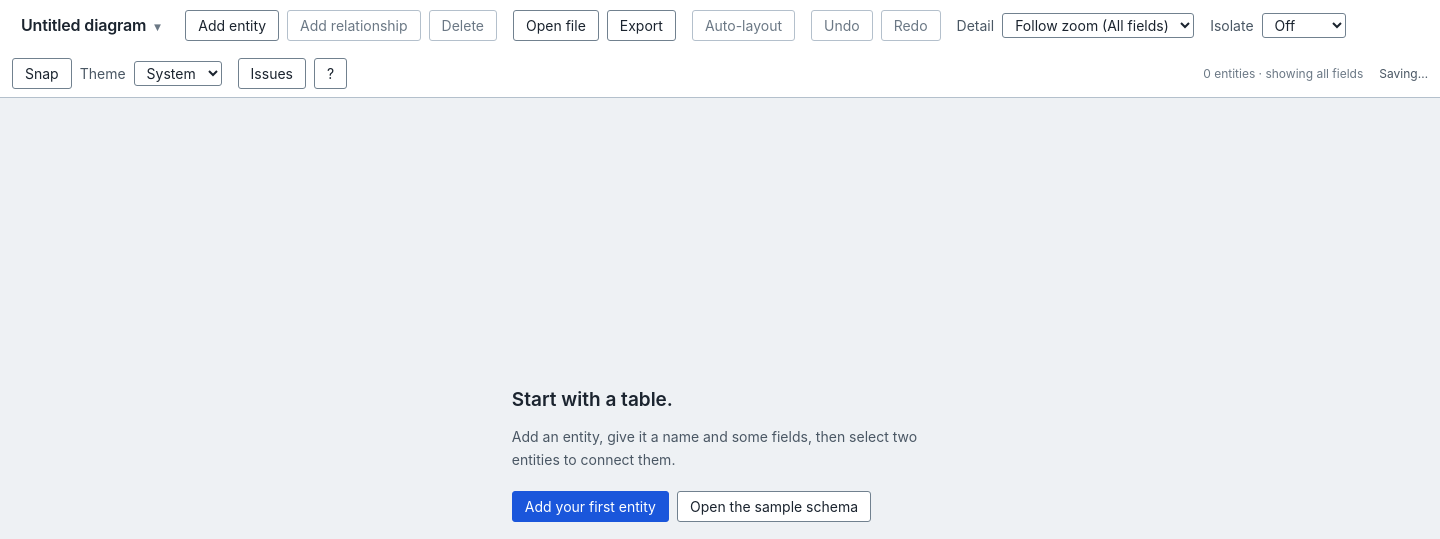
Test case: diagram menu › Escape backs out of a pending deletion before it closes the menu
The width and height of the screenshot is (1440, 539).
Check: the text "Start with a table." is shown, box left=512, top=386, right=673, bottom=414
Click the button "Untitled diagram ▾" at coordinates (91, 25), box left=12, top=8, right=169, bottom=42
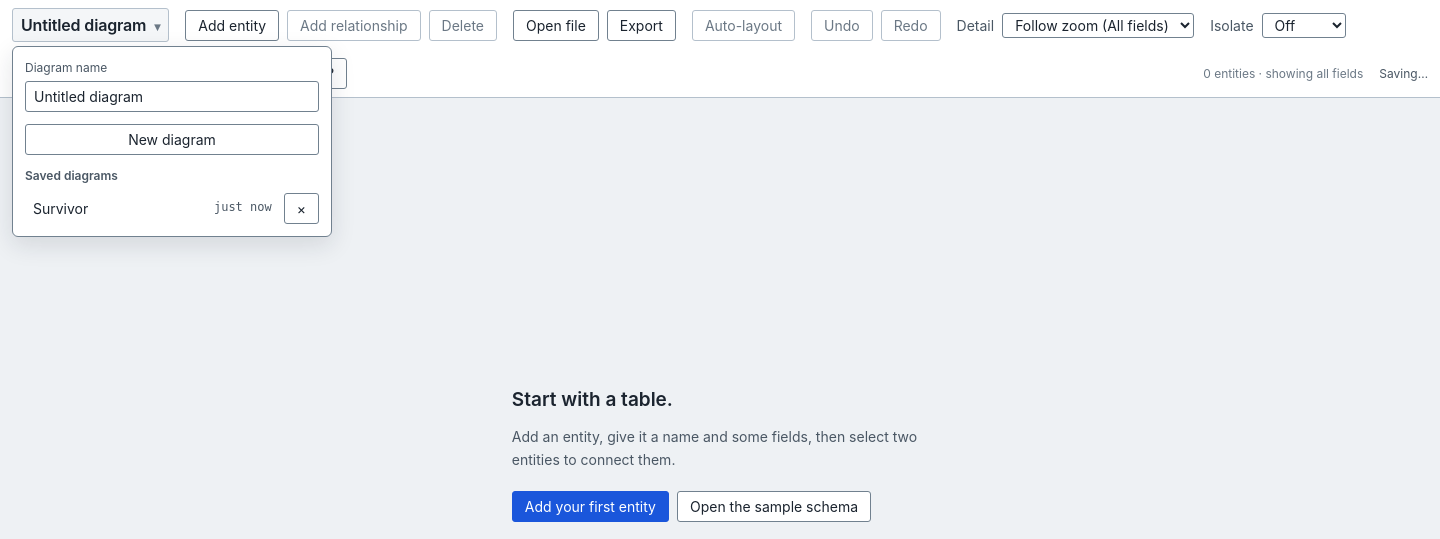
Check: the button "Survivor just now" is shown, box left=25, top=194, right=280, bottom=223
Click the button named "Delete Survivor" at coordinates (301, 208), box left=284, top=193, right=319, bottom=224
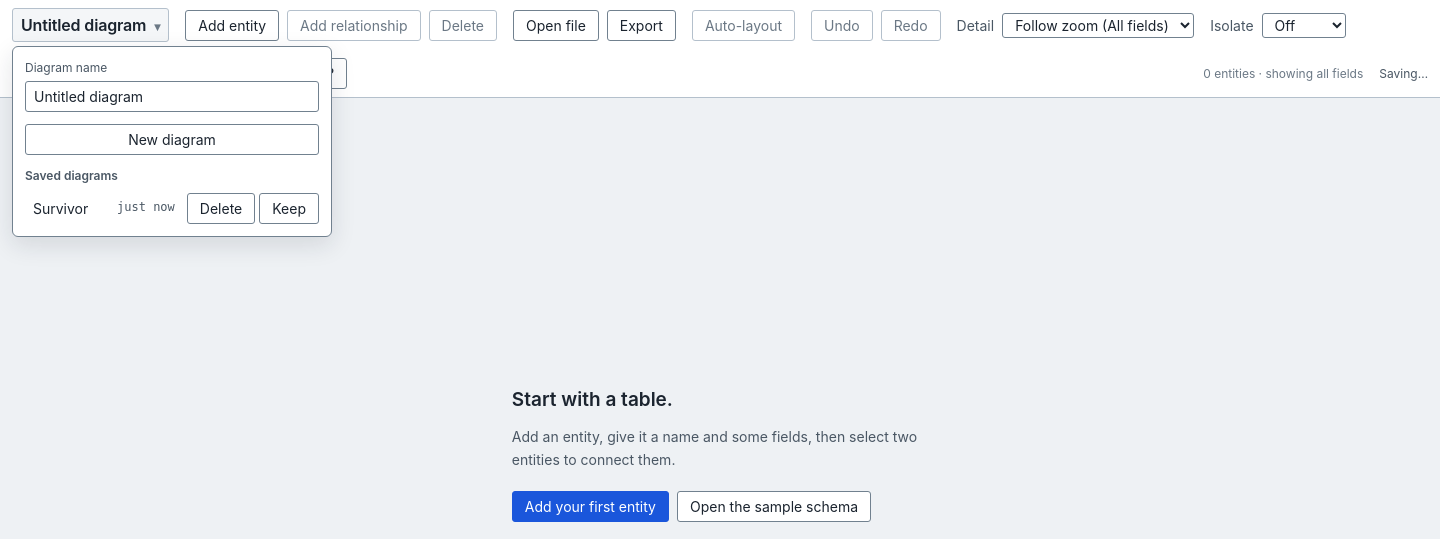
Press Escape
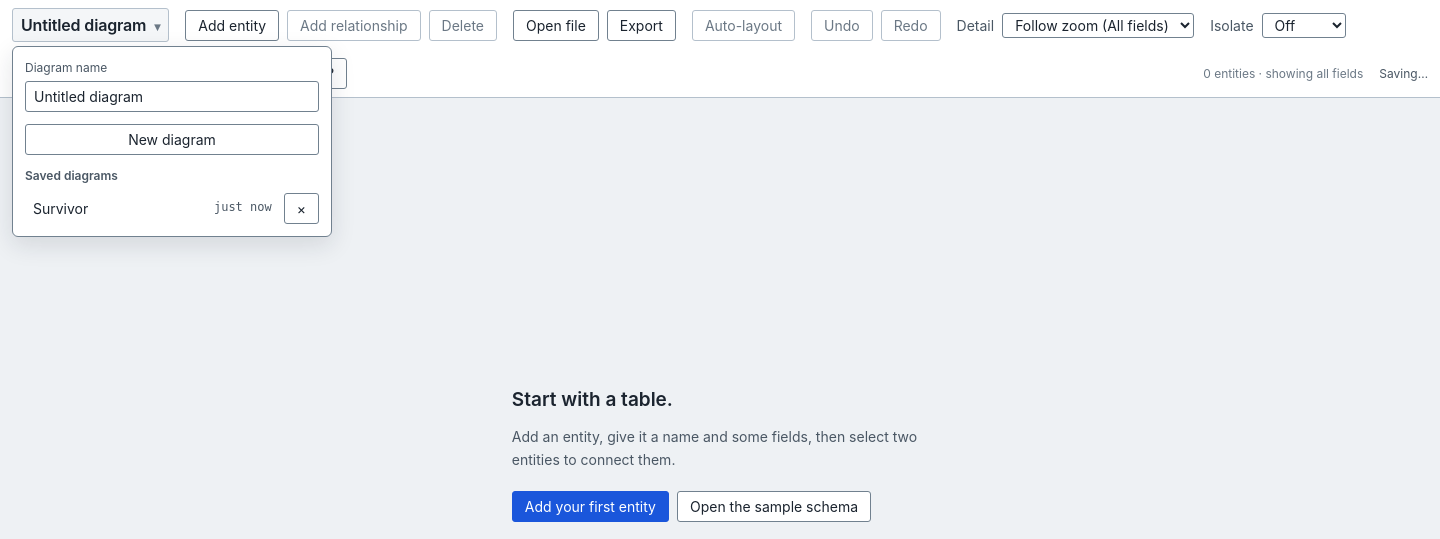
Check: the field labelled "Diagram name" is shown, box left=25, top=81, right=319, bottom=112
Check: the button named "Delete Survivor" is shown, box left=284, top=193, right=319, bottom=224
Press Escape
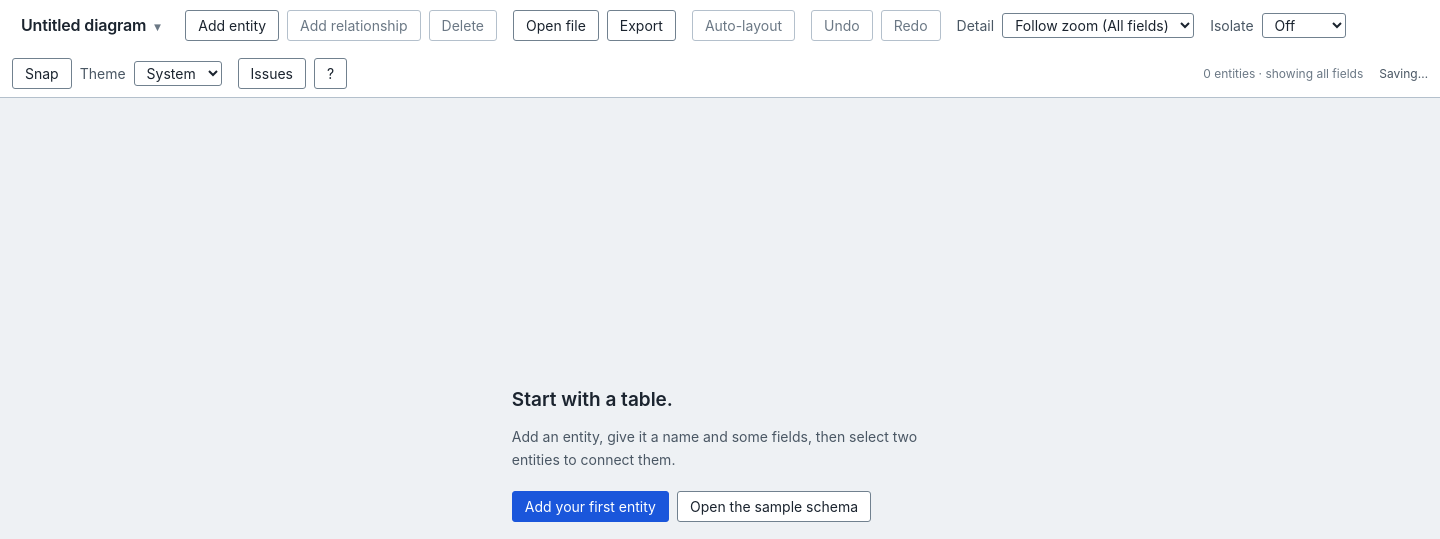
Check: the text labelled "Diagram name" is gone
